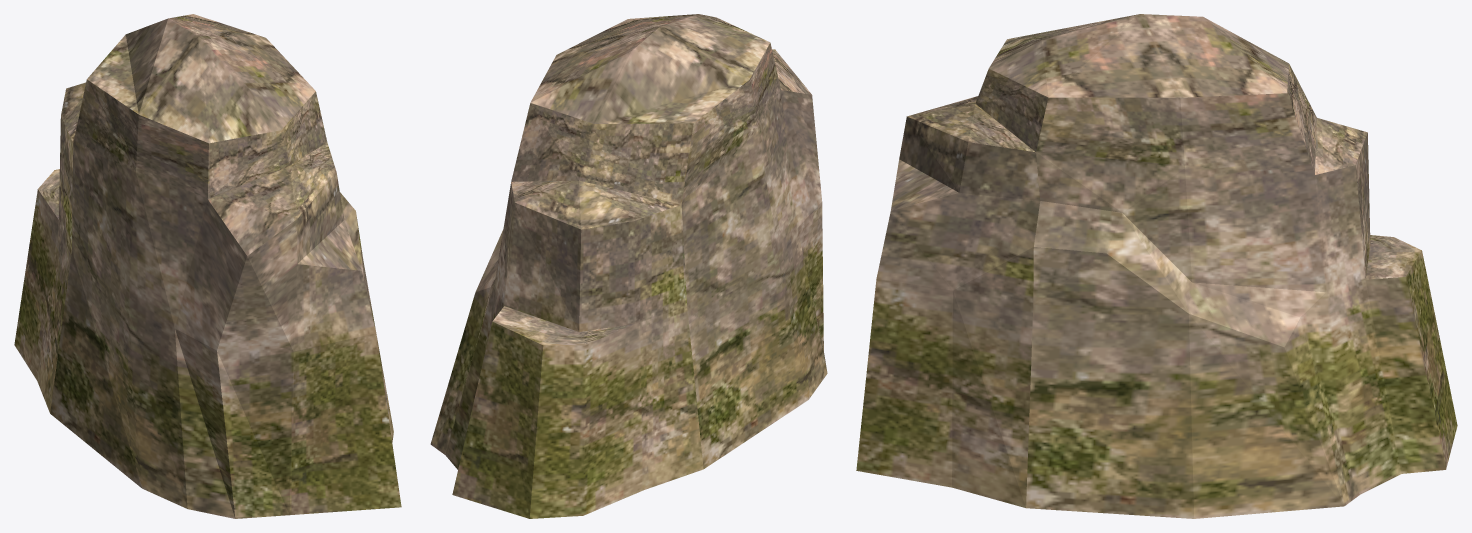
Rendered from town_mountain_a__11___1_14.fbx.
The picture shows the model from 3 angles, left to right: view 1: azimuth 30°, elevation 25°; view 2: azimuth 150°, elevation 25°; view 3: azimuth 270°, elevation 25°; orthographic projection. The views are drawn at different scales.
Parts seen in each view (by area): view 1: town_mountain_a__11___1_14; view 2: town_mountain_a__11___1_14; view 3: town_mountain_a__11___1_14.
Boxes of the visible parts, x1,y1,x2,y2 form: town_mountain_a__11___1_14: (14, 14, 401, 518); town_mountain_a__11___1_14: (430, 14, 827, 518); town_mountain_a__11___1_14: (856, 14, 1457, 518).
Bounding box in the file's own units: 23.33 × 32.6 × 42.33.
